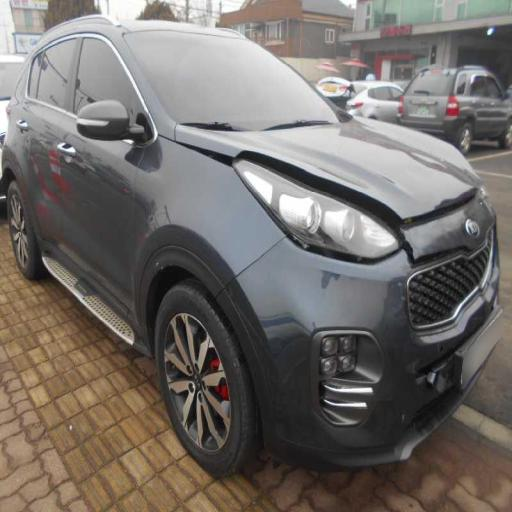broken: (226, 117, 460, 286)
